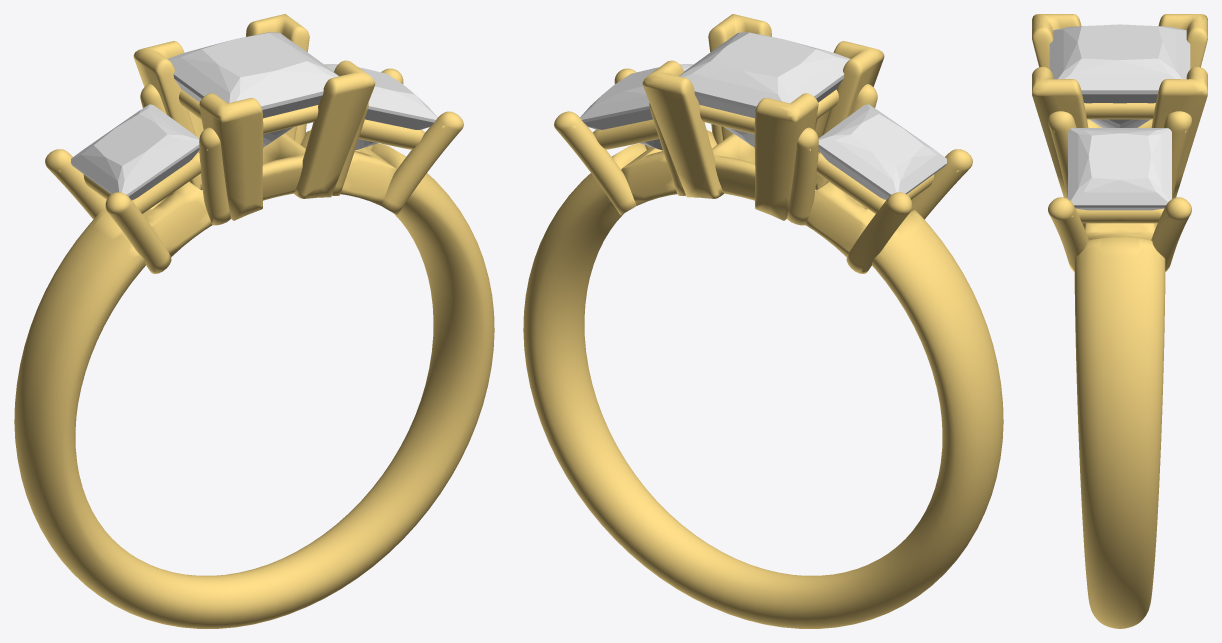
Rendered from diamond-princess-yellowgold-protectededges4prongs-taperedband-3stone.glb.
The picture shows the model from 3 angles, left to right: view 1: azimuth 30°, elevation 25°; view 2: azimuth 150°, elevation 25°; view 3: azimuth 270°, elevation 25°; orthographic projection.
Parts seen in each view (by area): view 1: metal, stone, side.001, side; view 2: metal, stone, side.001, side; view 3: metal, stone, side.
Part boxes in pixels (x1,y1,x2,y2): metal: [14, 14, 494, 628]; stone: [167, 32, 338, 147]; side.001: [71, 104, 199, 200]; side: [324, 64, 437, 150]; metal: [523, 14, 1003, 628]; stone: [679, 32, 850, 147]; side.001: [818, 104, 946, 200]; side: [580, 64, 693, 150]; metal: [1032, 14, 1207, 628]; stone: [1049, 24, 1190, 127]; side: [1068, 128, 1171, 210].
Bounding box in the file's own units: 20.5 × 23.84 × 6.77.
